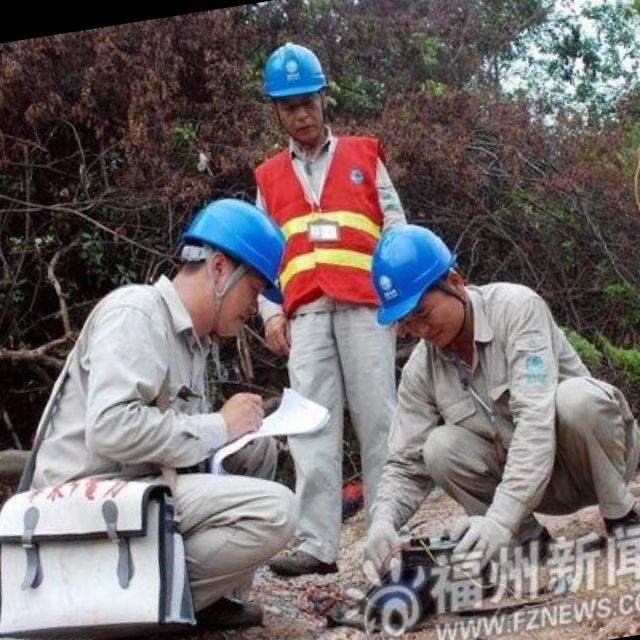Con_Chaleco: (258, 132, 394, 319)
